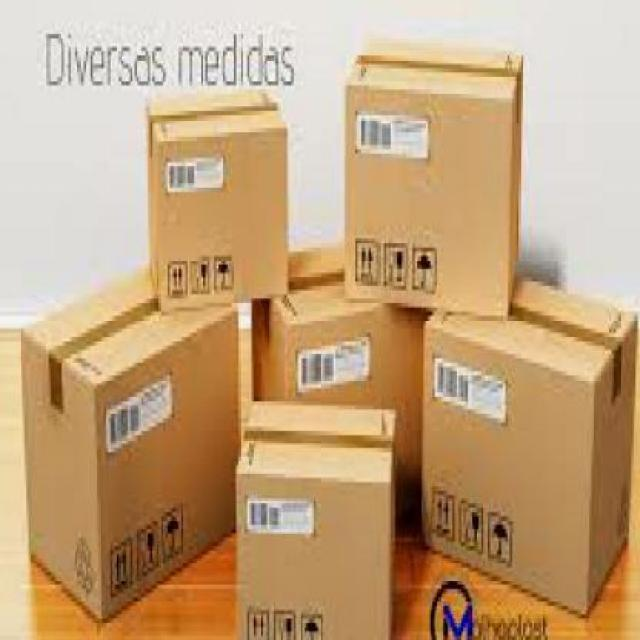box: (11, 260, 242, 632), (424, 256, 638, 636), (338, 38, 530, 320), (234, 384, 402, 636), (143, 94, 294, 308)
